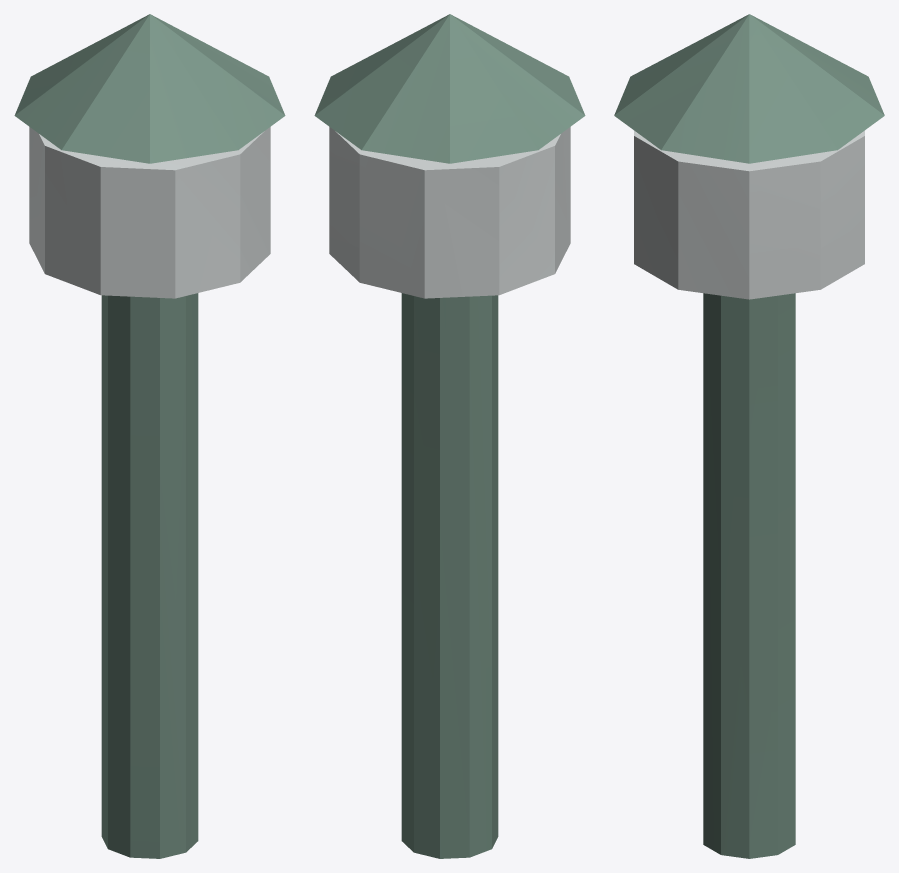
Rendered from lighthouse-07.glb.
3 renders of one model, left to right at view 1: azimuth 30°, elevation 25°; view 2: azimuth 150°, elevation 25°; view 3: azimuth 270°, elevation 25°, orthographic.
Visible parts, largest first — view 1: world; view 2: world; view 3: world.
Part boxes in pixels (x1,y1,x2,y2): world: [14, 14, 285, 858]; world: [314, 14, 585, 858]; world: [614, 14, 884, 858].
Bounding box in the file's own units: 0.6595 × 2.25 × 0.6697.
